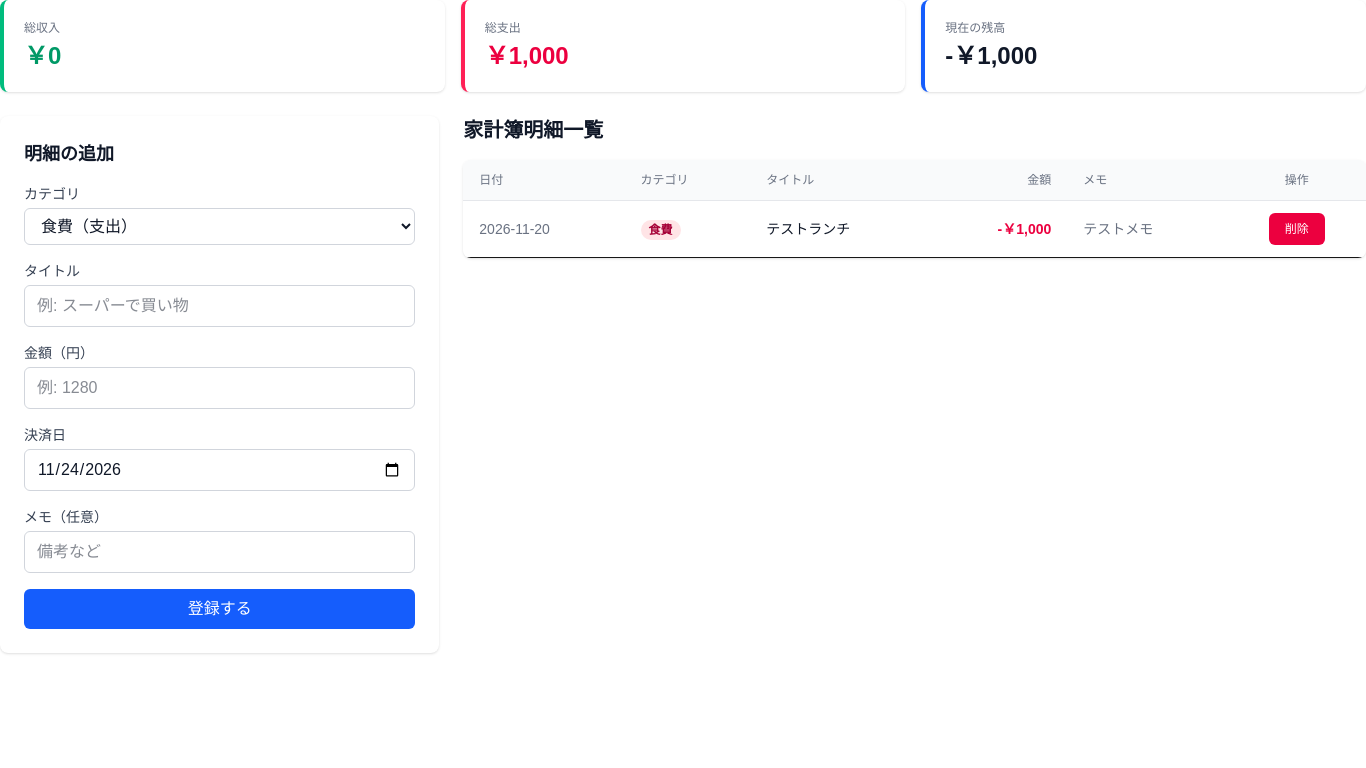
Test: TransactionSection › フォームから新規明細を登録すると一覧と残高サマリーが更新されること
This screenshot has width=1366, height=768.
Expected: the text "テストランチ" is shown, [750,200,933,258]
Select "給与（収入）" in the dropdown labelled "カテゴリ" at [220, 226], box [24,208,415,245]
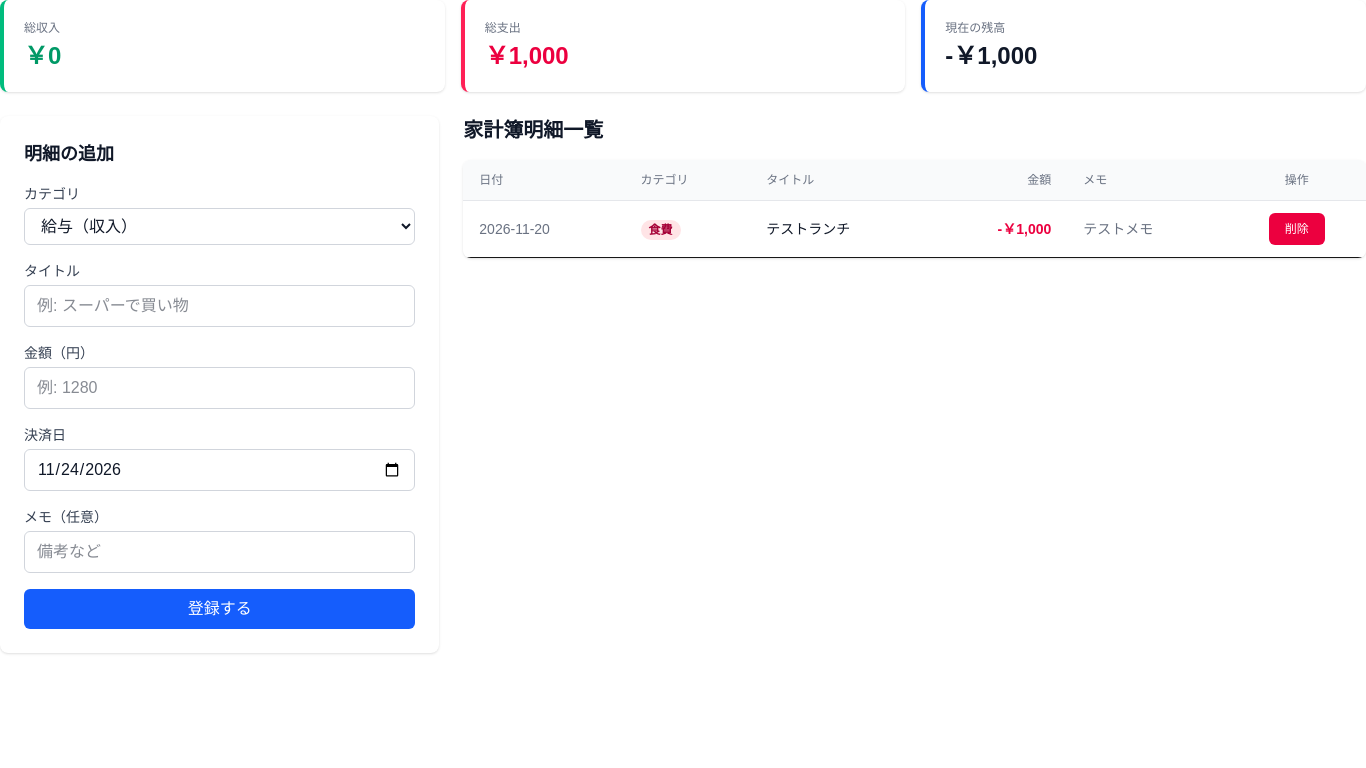
Type "月給" into the field labelled "タイトル".
click(220, 306); type("月給")  # box [24,285,415,327]
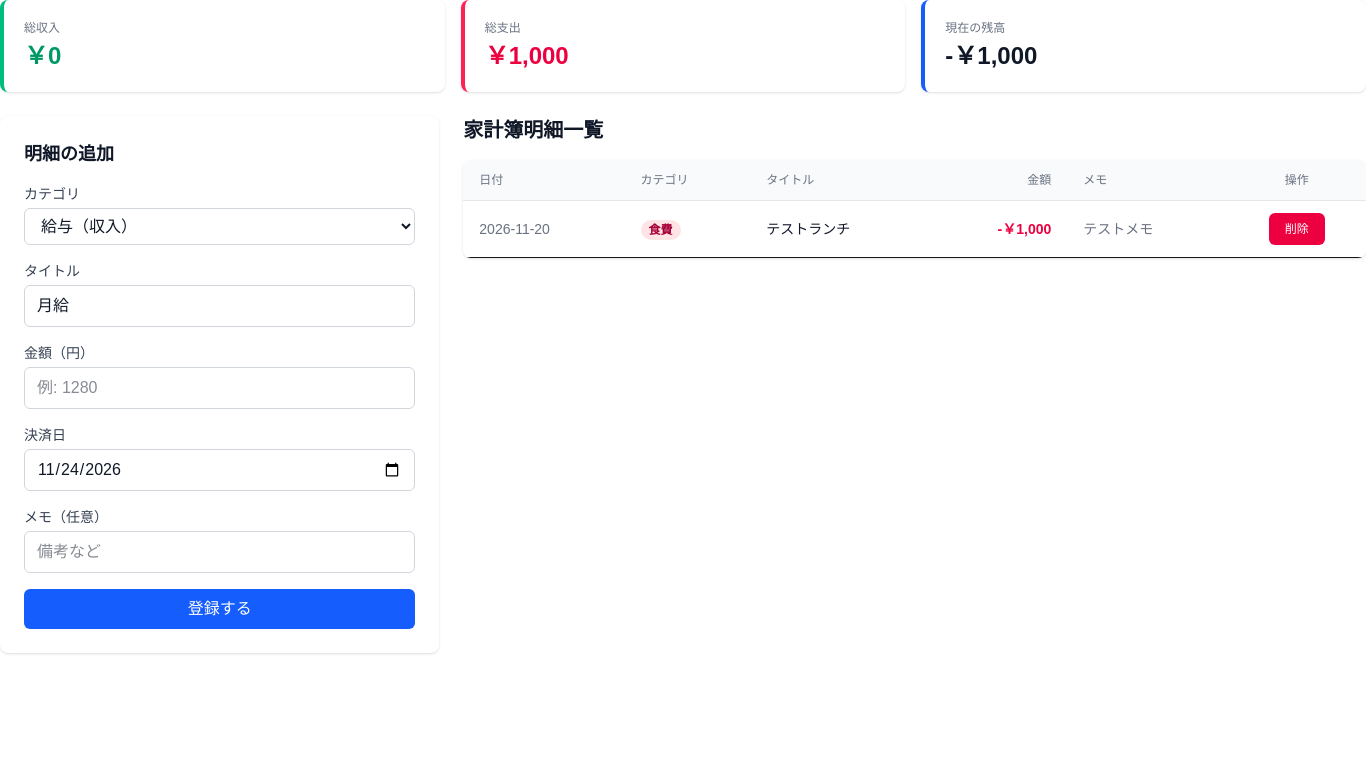
Type "300000" into the number field labelled "金額（円）".
click(220, 388); type("300000")  # box [24,367,415,409]
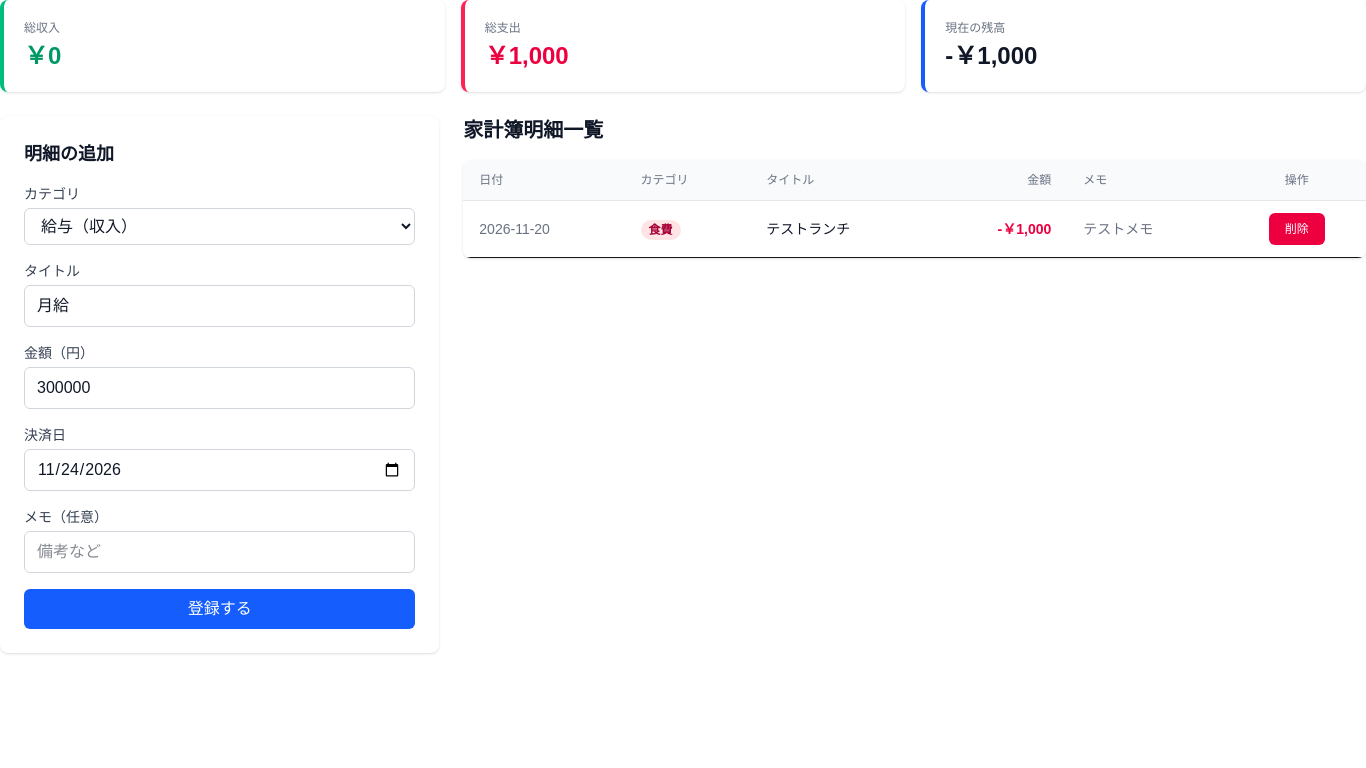
Click the button "登録する".
click(220, 609)  # box [24,589,415,629]
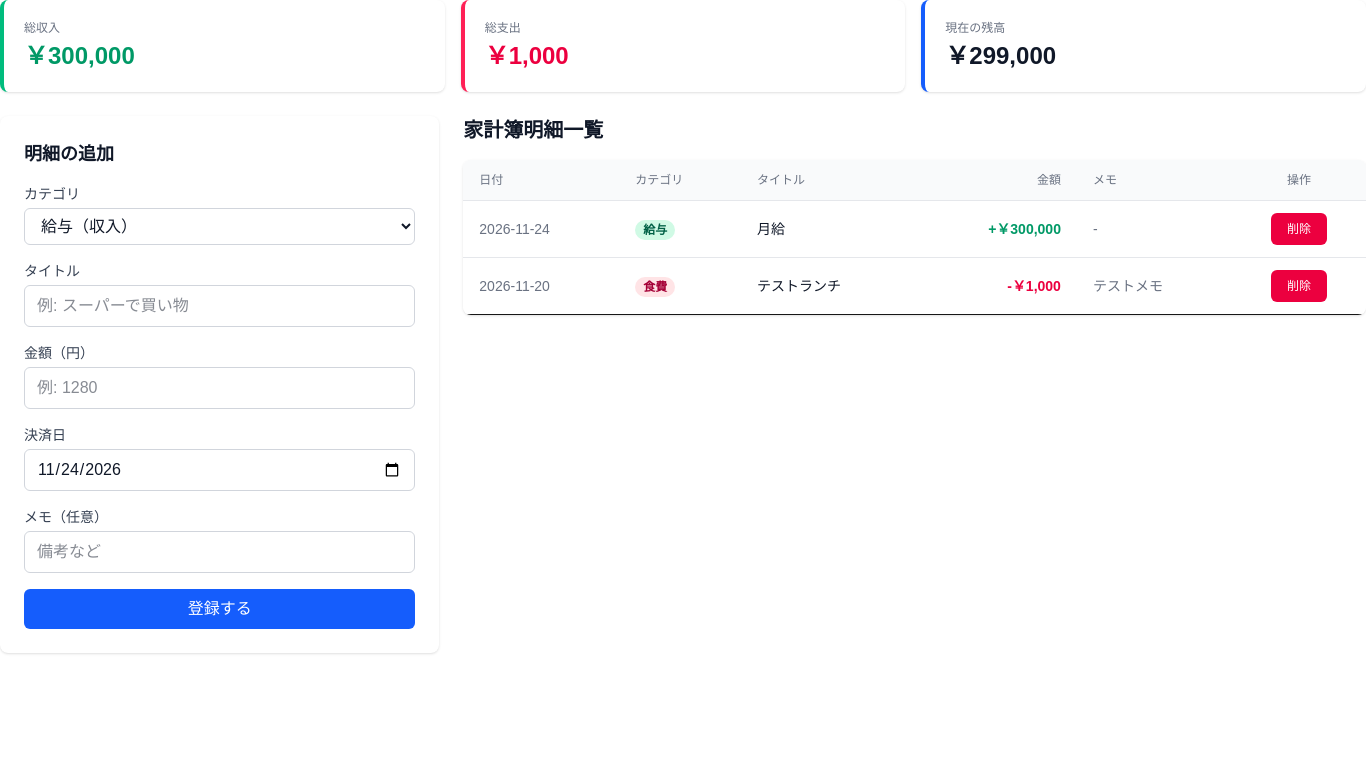
Expected: the text "月給" is shown, [741,200,918,258]
Expected: the text "￥299,000" is shown, [945,42,1056,69]
